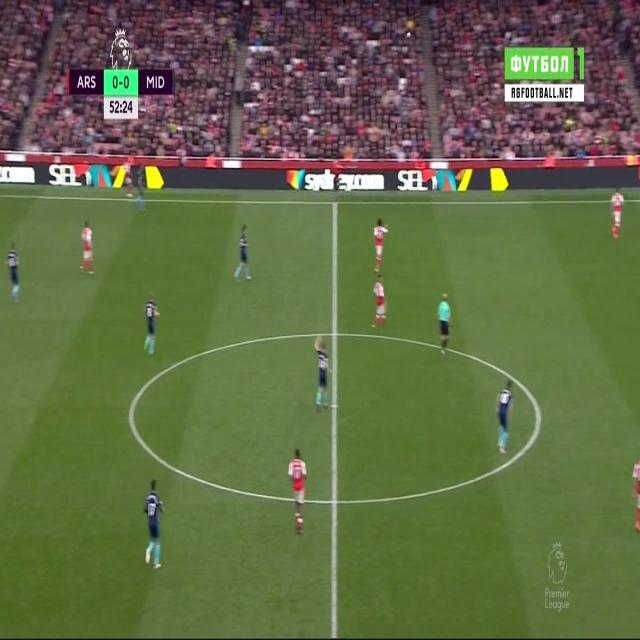Player: (142, 475, 165, 573), (493, 373, 517, 460), (287, 444, 308, 536), (232, 219, 256, 288), (312, 334, 332, 415), (142, 289, 163, 363), (4, 235, 22, 307), (76, 218, 96, 280), (370, 275, 390, 336), (608, 185, 627, 242), (371, 216, 389, 274), (630, 455, 640, 536), (123, 162, 135, 205)
Referee: (435, 288, 453, 356)
